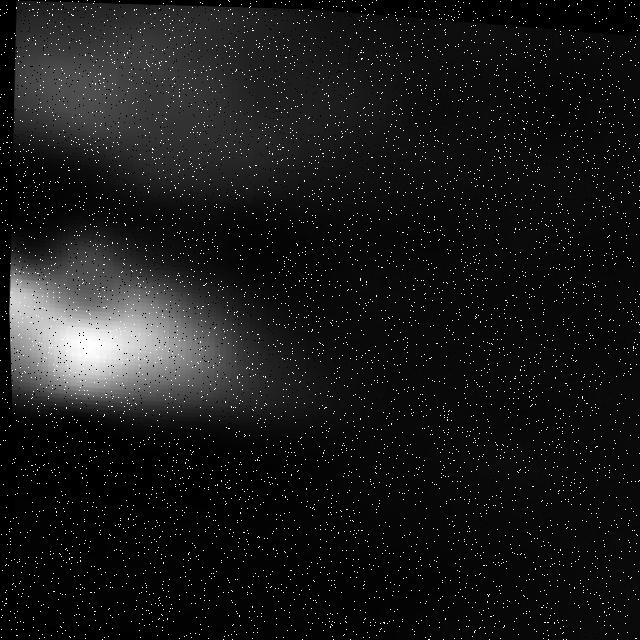person: (7, 1, 473, 228), (6, 227, 335, 448)
